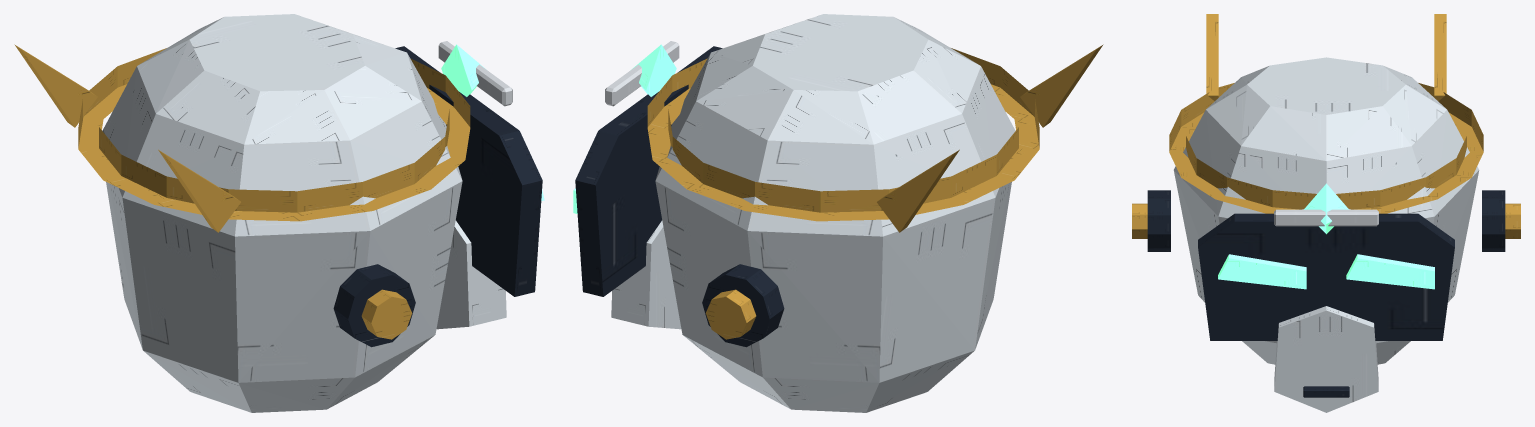
File: circlet.glb
3 renders of one model, left to right at view 1: azimuth 30°, elevation 25°; view 2: azimuth 150°, elevation 25°; view 3: azimuth 270°, elevation 25°, orthographic. The views are drawn at different scales.
Parts seen in each view (by area): view 1: head; view 2: head; view 3: head.
Boxes of the visible parts, box(x1,y1,x2,y2) form: head: box(14, 14, 544, 412); head: box(573, 14, 1103, 412); head: box(1132, 14, 1520, 412).
Size of the model in its own units: 0.331 by 0.252 by 0.351.
Materials: 5 (5 with a texture image).
